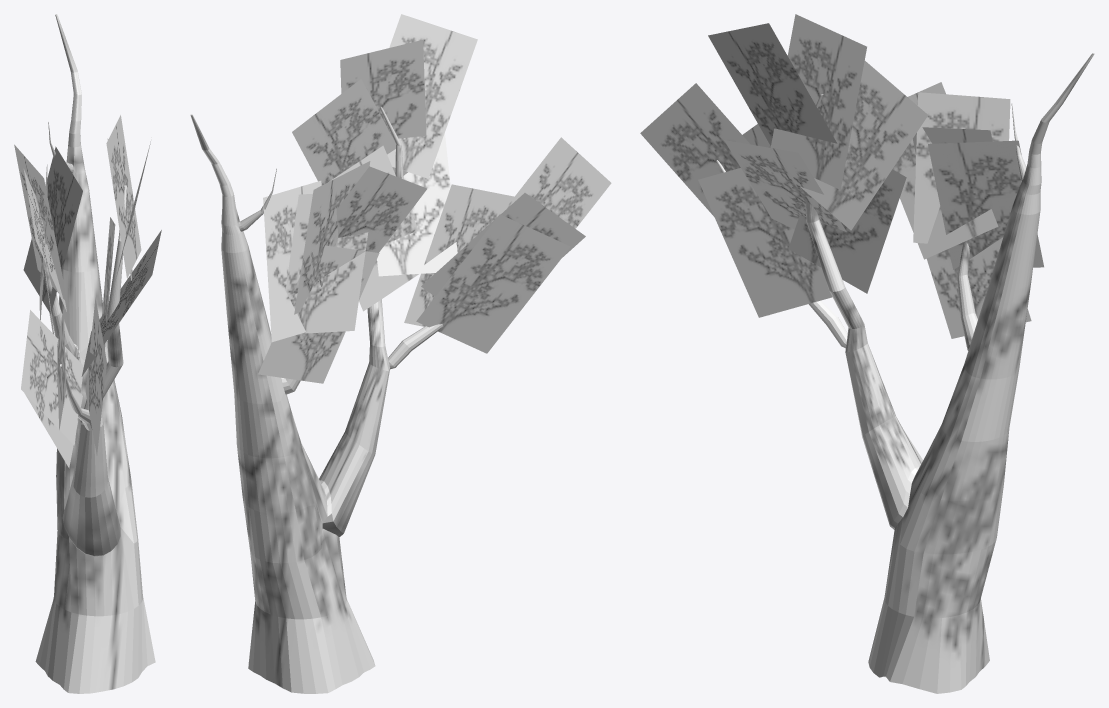
Rendered from Arbol2Hojas 1.fbx.
The picture shows the model from 3 angles, left to right: view 1: azimuth 30°, elevation 25°; view 2: azimuth 150°, elevation 25°; view 3: azimuth 270°, elevation 25°; orthographic projection. The views are drawn at different scales.
Parts seen in each view (by area): view 1: Tallo, Plane; view 2: Plane, Tallo; view 3: Plane, Tallo.
Part boxes in pixels (left/top/right/bottom): Tallo: left=35, top=14, right=155, bottom=693; Plane: left=14, top=115, right=161, bottom=468; Plane: left=258, top=14, right=611, bottom=383; Tallo: left=190, top=107, right=442, bottom=693; Plane: left=640, top=14, right=1043, bottom=338; Tallo: left=716, top=53, right=1094, bottom=693.
Size of the model in its own units: 3.58 by 9 by 5.83.
1 material, 1 textured.
